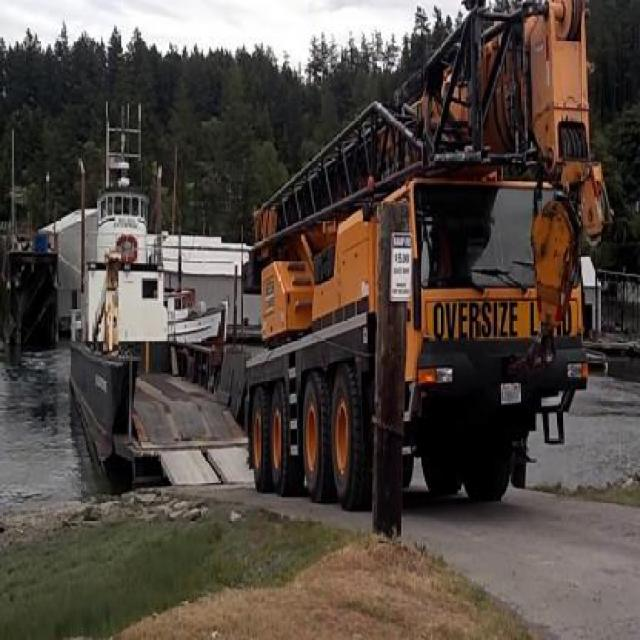Mobile Crane: (252, 0, 600, 494)
